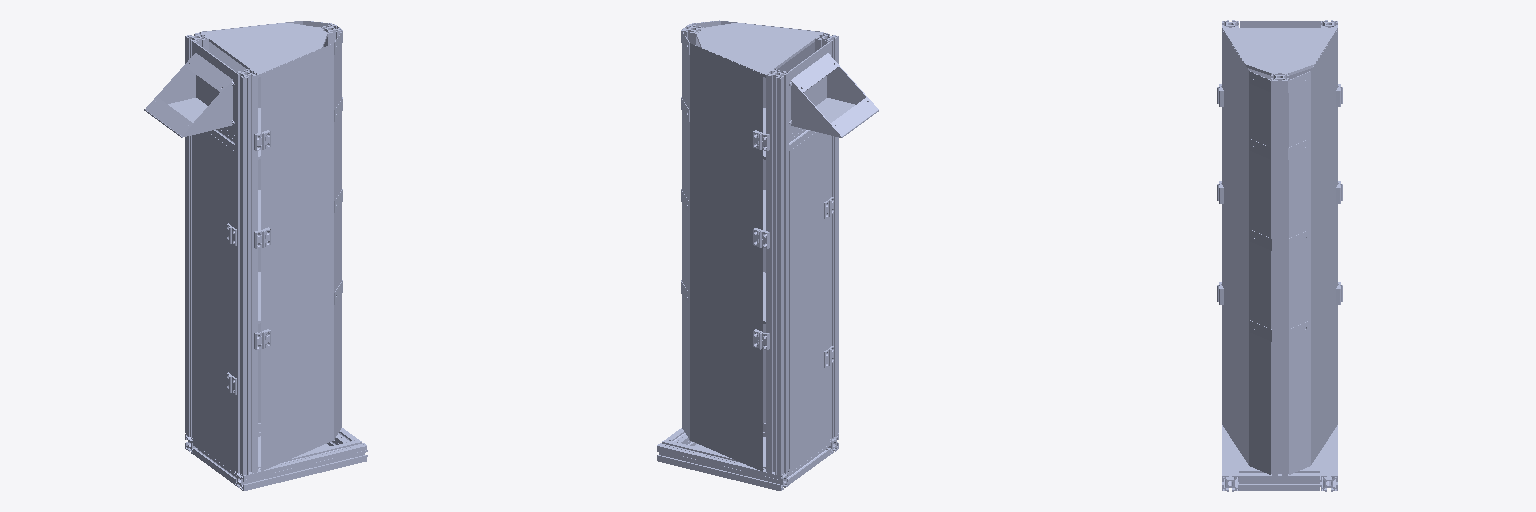
robot.urdf — doris_dorso_description:
<?xml version="1.0" encoding="utf-8"?>
<!-- This URDF was automatically created by SolidWorks to URDF Exporter! Originally created by [author] ([email redacted]) 
     Commit Version: 1.6.0-1-g15f4949  Build Version: 1.6.7594.29634
     For more information, please see http://wiki.ros.org/sw_urdf_exporter -->
<robot name="doris_dorso_description">
  <link name="dorso_link">
    <inertial>
      <origin xyz="-0.049721 -0.0015664 0.52098" rpy="0 0 0" />
      <mass value="5.8385" />
      <inertia ixx="0.23511" ixy="2.2795E-05" ixz="0.00021828" iyy="0.24015" iyz="2.7987E-05" izz="0.022627" />
    </inertial>
    <visual>
      <origin xyz="0 0 0" rpy="0 0 0" />
      <geometry>
        <mesh filename="package://doris_dorso_description/meshes/dorso_link.STL" scale="0.001 0.001 0.001" />
      </geometry>
      <material name="">
        <color rgba="0.79216 0.81961 0.93333 1" />
      </material>
    </visual>
    <collision>
      <origin xyz="0 0 0" rpy="0 0 0" />
      <geometry>
        <mesh filename="package://doris_dorso_description/meshes/dorso_link.STL" scale="0.001 0.001 0.001" />
      </geometry>
    </collision>
  </link>
</robot>

--- Render facts (derived) ---
3 views of the same robot in one strip: view 1: azimuth 30°, elevation 25°; view 2: azimuth 150°, elevation 25°; view 3: azimuth 270°, elevation 25° (orthographic).
Robot: doris_dorso_description — 1 links, 0 joints (none); root link dorso_link; default pose: every joint at zero.
Links seen in each view (by area): view 1: dorso_link; view 2: dorso_link; view 3: dorso_link.
Link boxes in pixels (bbox=[...]): dorso_link: bbox=[144, 21, 367, 490]; dorso_link: bbox=[657, 20, 878, 490]; dorso_link: bbox=[1217, 20, 1342, 491].
Bounding box of the posed robot: 0.0005 × 0.0003 × 0.001 m (x, y, z).
Meshes: 1 distinct files referenced, 1 mesh visuals loaded (1 binary STL).
